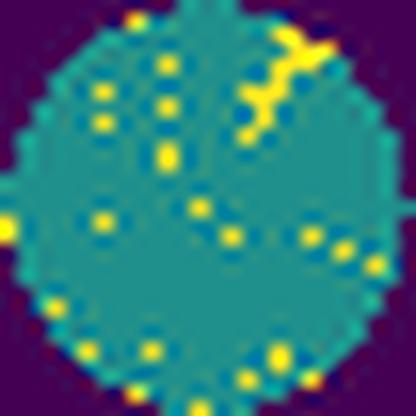Scratch: (232, 17, 337, 154)
